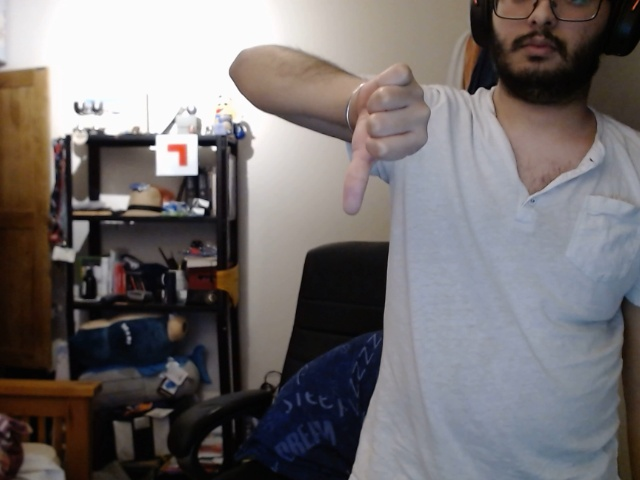Thumbs down: (337, 55, 439, 221)
